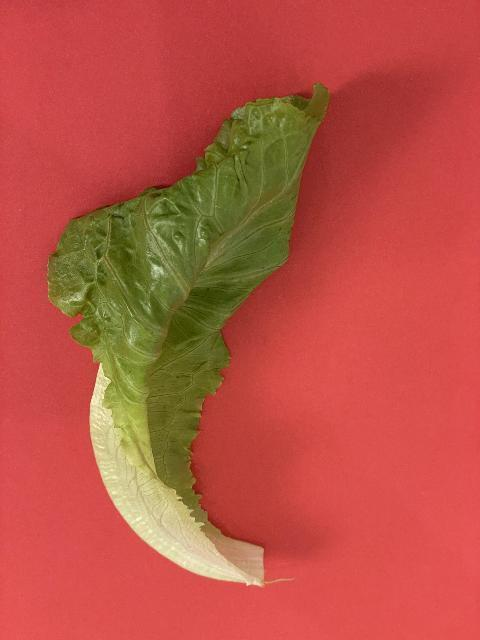lettuce: (46, 78, 332, 590)
